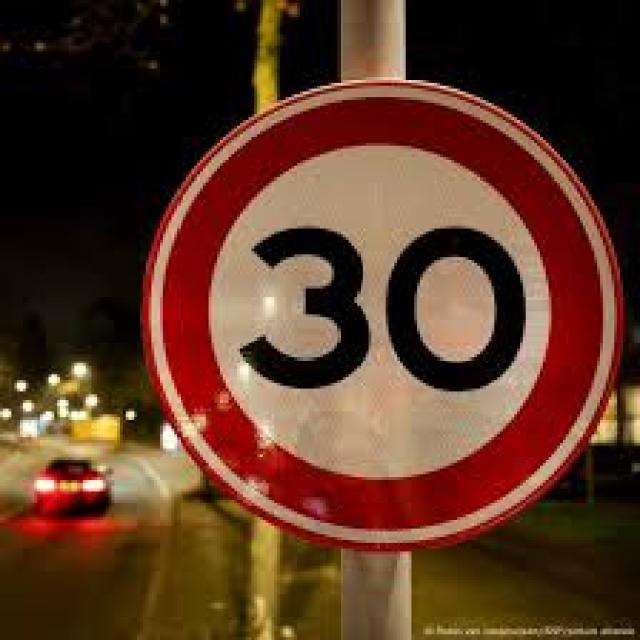Speed limit 30: (138, 76, 627, 553)
